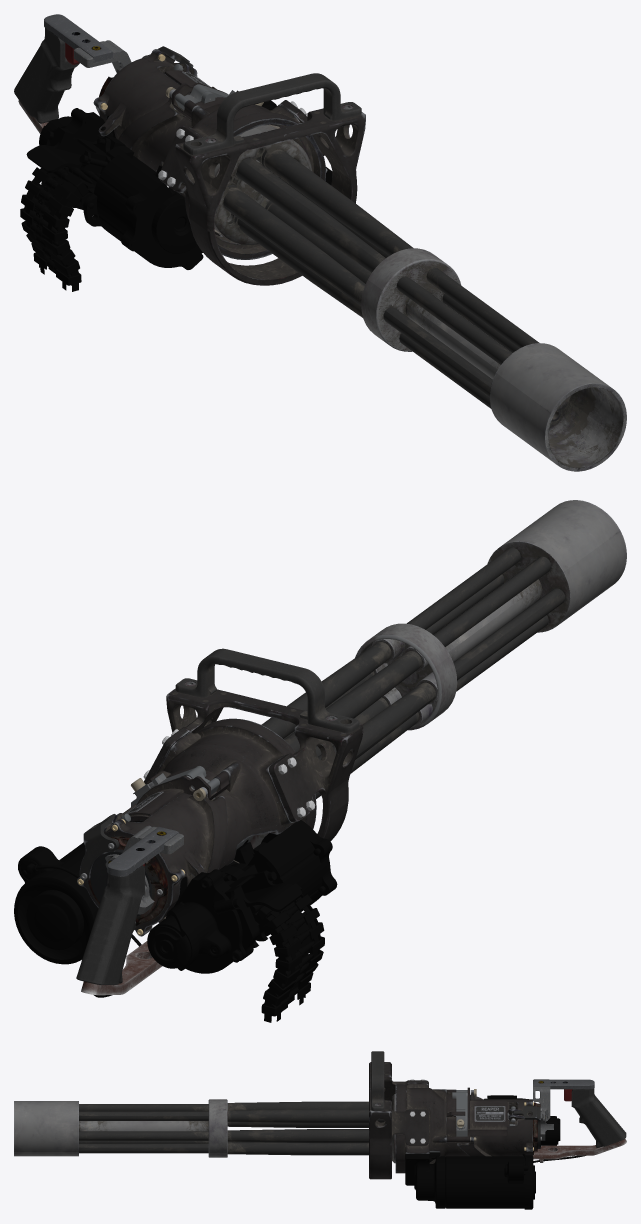
Rendered from minigun.glb.
3 views of the same model, one above another, from view 1: azimuth 30°, elevation 25°; view 2: azimuth 150°, elevation 25°; view 3: azimuth 270°, elevation 25° (orthographic). The views are drawn at different scales.
Parts seen in each view (by area): view 1: minigun; view 2: minigun; view 3: minigun.
Boxes of the visible parts, box(x1,y1,x2,y2) form: minigun: box(14, 14, 626, 471); minigun: box(14, 500, 626, 1022); minigun: box(14, 1051, 626, 1209).
Bounding box in the file's own units: 0.183 × 0.1617 × 0.65.
Materials: 4 (3 with a texture image).
